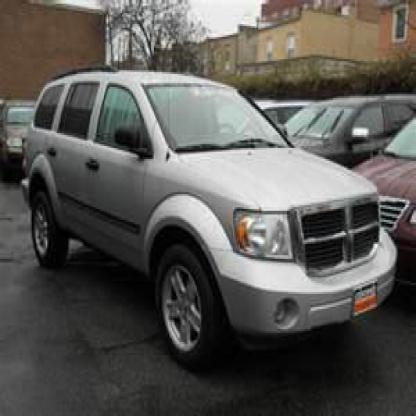Vehicle: (25, 70, 397, 372)
